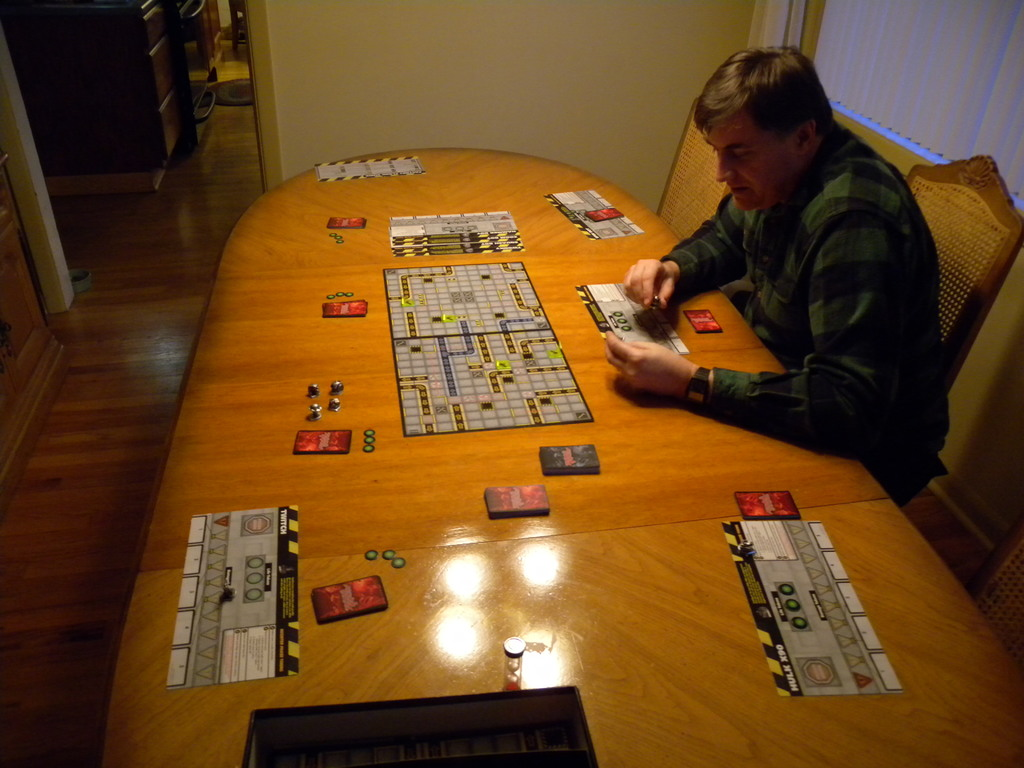Table: (95, 100, 940, 766)
